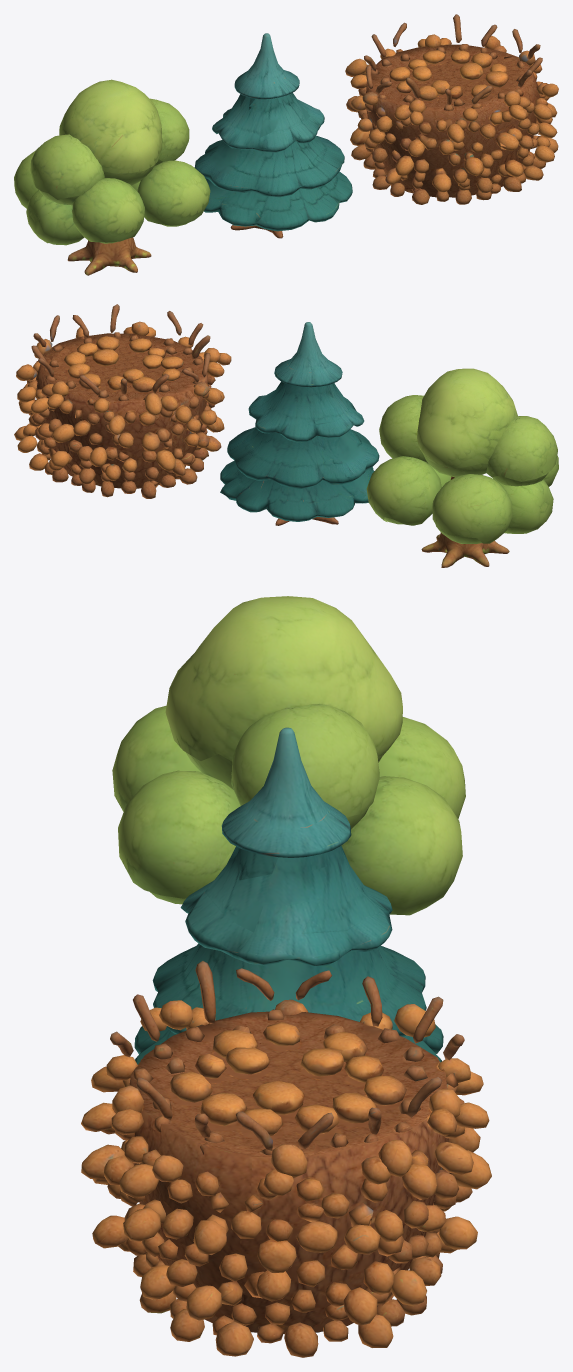
Rendered from Tree_Trio_texture.glb.
3 views of the same model, one above another, from view 1: azimuth 30°, elevation 25°; view 2: azimuth 150°, elevation 25°; view 3: azimuth 270°, elevation 25° (orthographic). The views are drawn at different scales.
Bounding box in the file's own units: 1 × 0.36 × 0.3534.
1 material, 1 textured.
